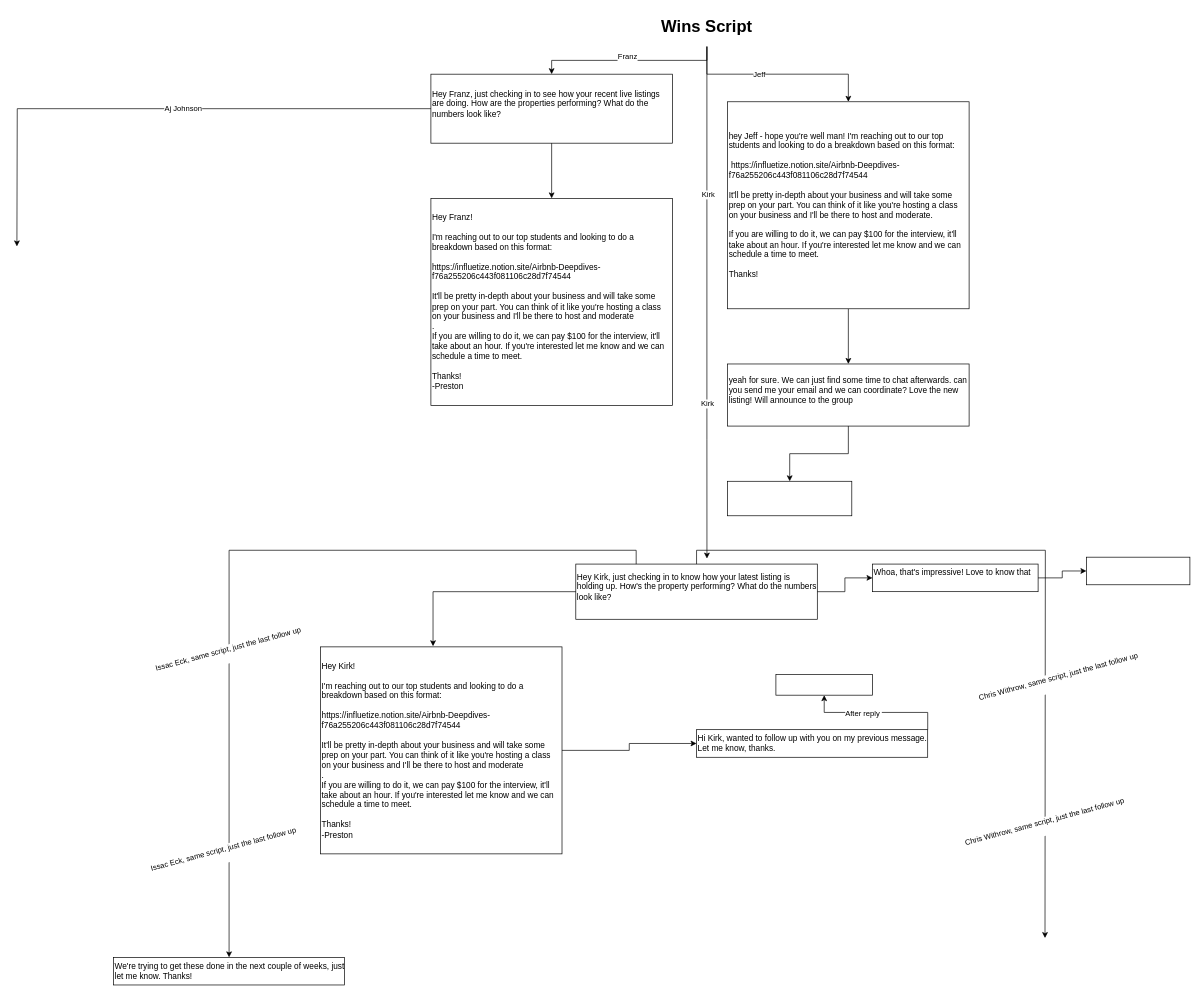
Some shapes in this 1202 by 1003 pixel diagram are drawn without their labels. Each missing label, with the box of its shape:
Huge Congratulations Kirk!: (1086, 556, 1190, 585)
It's okay! No worrries: (775, 674, 873, 695)
love to see it! Just sent the email: (727, 481, 852, 516)
